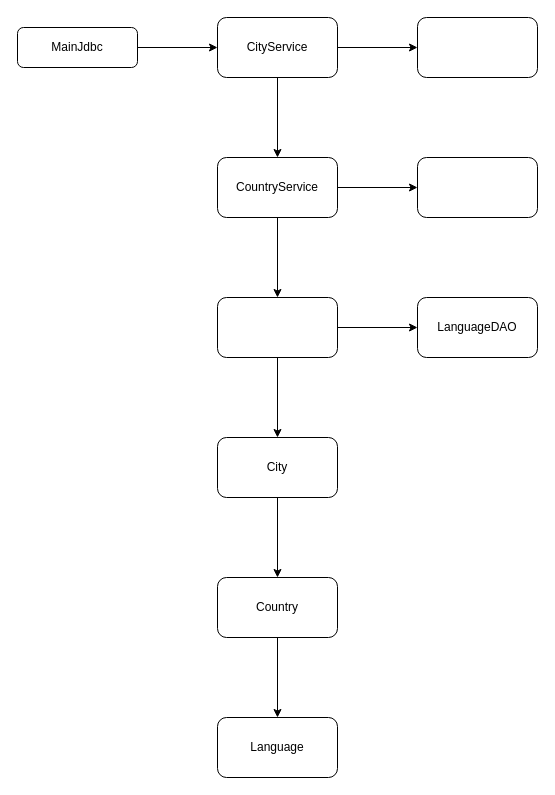
Image size: 555x795. Some labels were removed from this diagram. The shapes that lost their labels are listed below. From the top down, each one's centre as x and y in pixels, then its label:
At (x=477, y=47): "CityDAO".
At (x=477, y=187): "CountryDAO".
At (x=277, y=327): "LanguageService".
